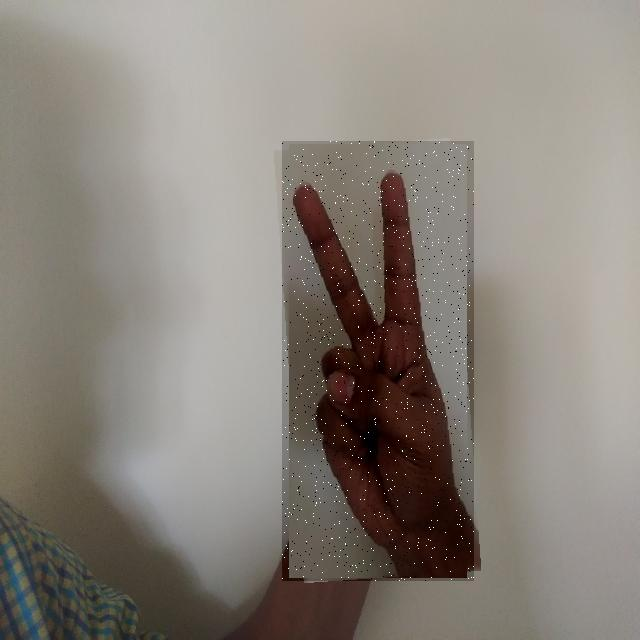No: (282, 141, 474, 581)
